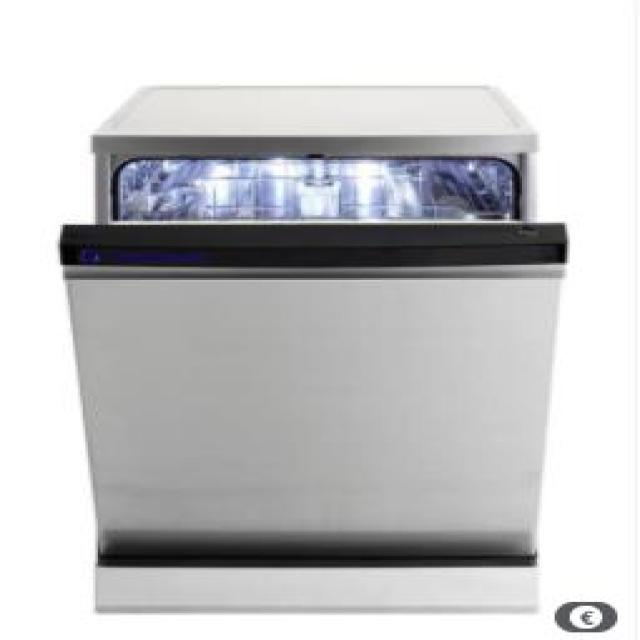dishwasher: (53, 84, 577, 613)
